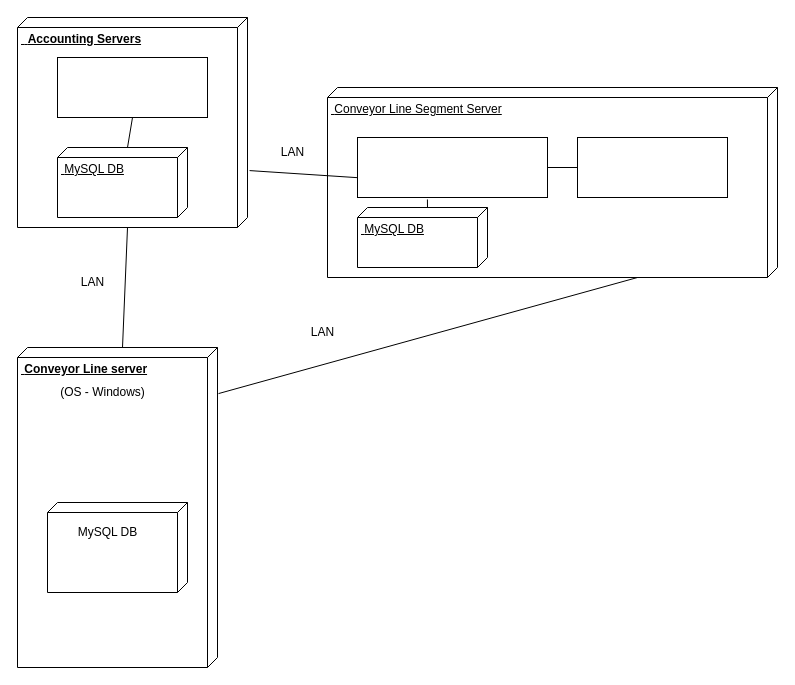
This 795x685 diagram has some shape labels left out. The centre of each missing label's shape, as x and y in pixels:
Microsoft Excel: the point at 132,87
RepairSpotsAnalyzer.exe: the point at 652,167
RepairZonesAnalyzer.exe: the point at 452,167
